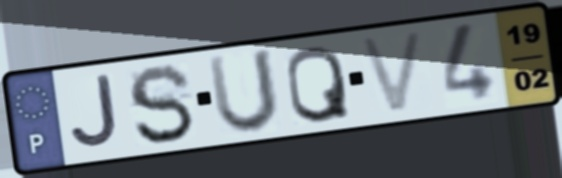4: (440, 20, 498, 108)
J: (67, 72, 123, 152)
Q: (283, 42, 354, 126)
S: (124, 63, 199, 148)
U: (204, 45, 283, 137)
V: (354, 26, 429, 118)
